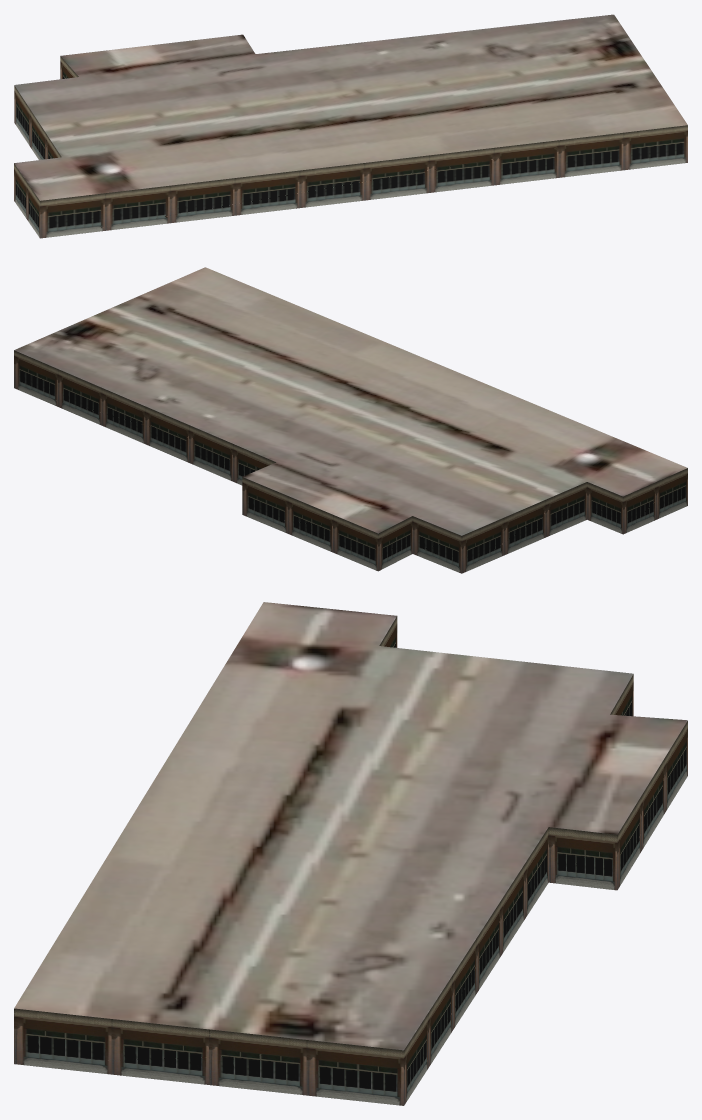
3 renders of one model, top to bottom at view 1: azimuth 30°, elevation 25°; view 2: azimuth 150°, elevation 25°; view 3: azimuth 270°, elevation 25°, orthographic. The views are drawn at different scales.
Visible parts, largest first — view 1: SketchUp (×4); view 2: SketchUp (×8); view 3: SketchUp (×5).
Boxes of the visible parts, x1,y1,x2,y2 form: SketchUp (×4): (14,14,687,238); SketchUp (×8): (14,267,687,573); SketchUp (×5): (14,602,687,1105).
Bounding box in the file's own units: 62.91 × 39.97 × 3.64.
Materials: 2 (2 with a texture image).
